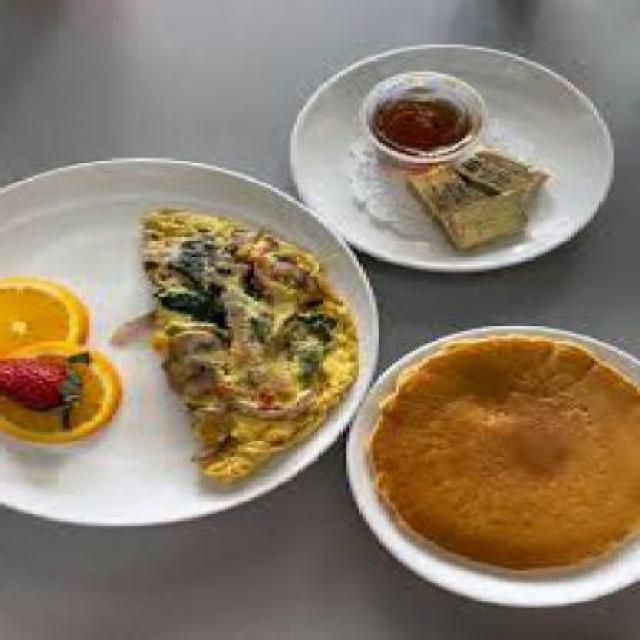omelette: (149, 200, 356, 485)
